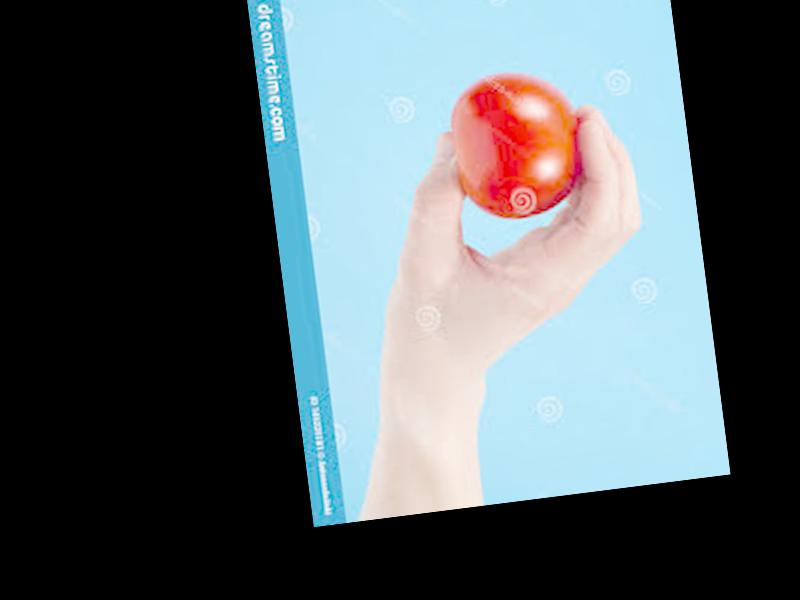Tomato: (445, 64, 592, 224)
